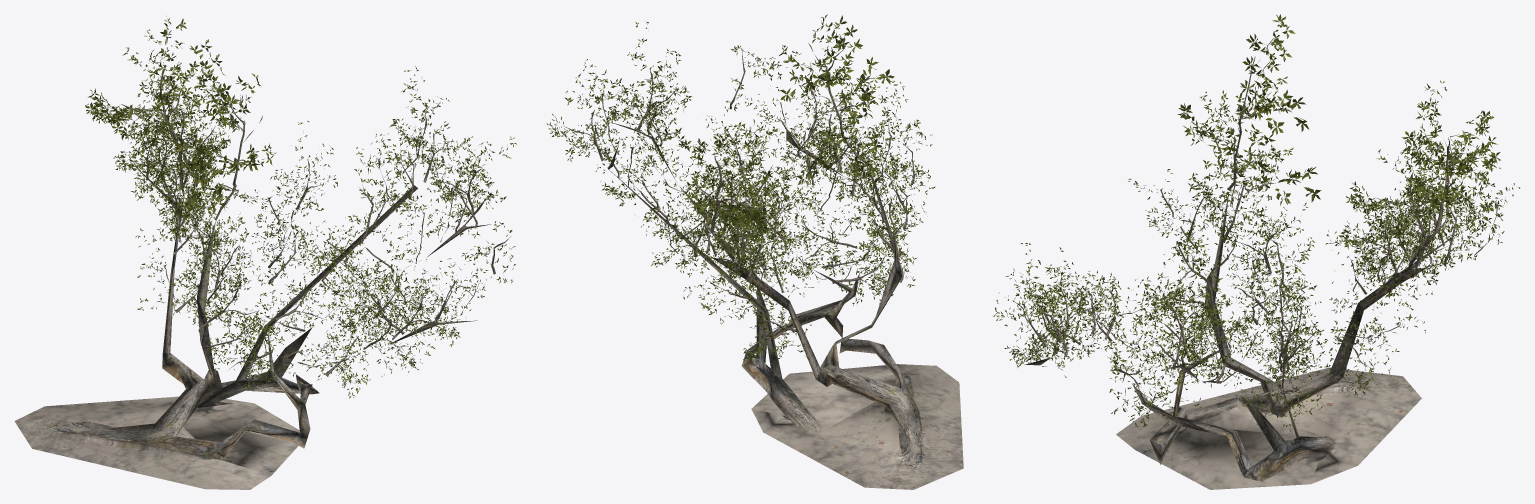
File: island_tree_03.glb
The picture shows the model from 3 angles, left to right: view 1: azimuth 30°, elevation 25°; view 2: azimuth 150°, elevation 25°; view 3: azimuth 270°, elevation 25°; orthographic projection. The views are drawn at different scales.
Parts seen in each view (by area): view 1: island_tree_03_LOD0; view 2: island_tree_03_LOD0; view 3: island_tree_03_LOD0.
Boxes of the visible parts, x1,y1,x2,y2 form: island_tree_03_LOD0: (14, 16, 516, 489); island_tree_03_LOD0: (546, 14, 963, 489); island_tree_03_LOD0: (993, 14, 1519, 489).
Size of the model in its own units: 2.96 by 2.61 by 2.89.
Materials: 3 (3 with a texture image).
